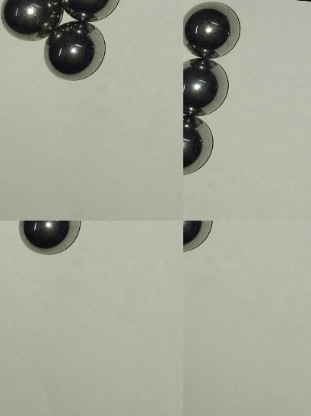ironball: (45, 25, 107, 82), (181, 0, 241, 56), (2, 0, 64, 45), (185, 56, 231, 115), (182, 110, 223, 175), (15, 219, 82, 256), (59, 0, 126, 25), (180, 219, 214, 254)
